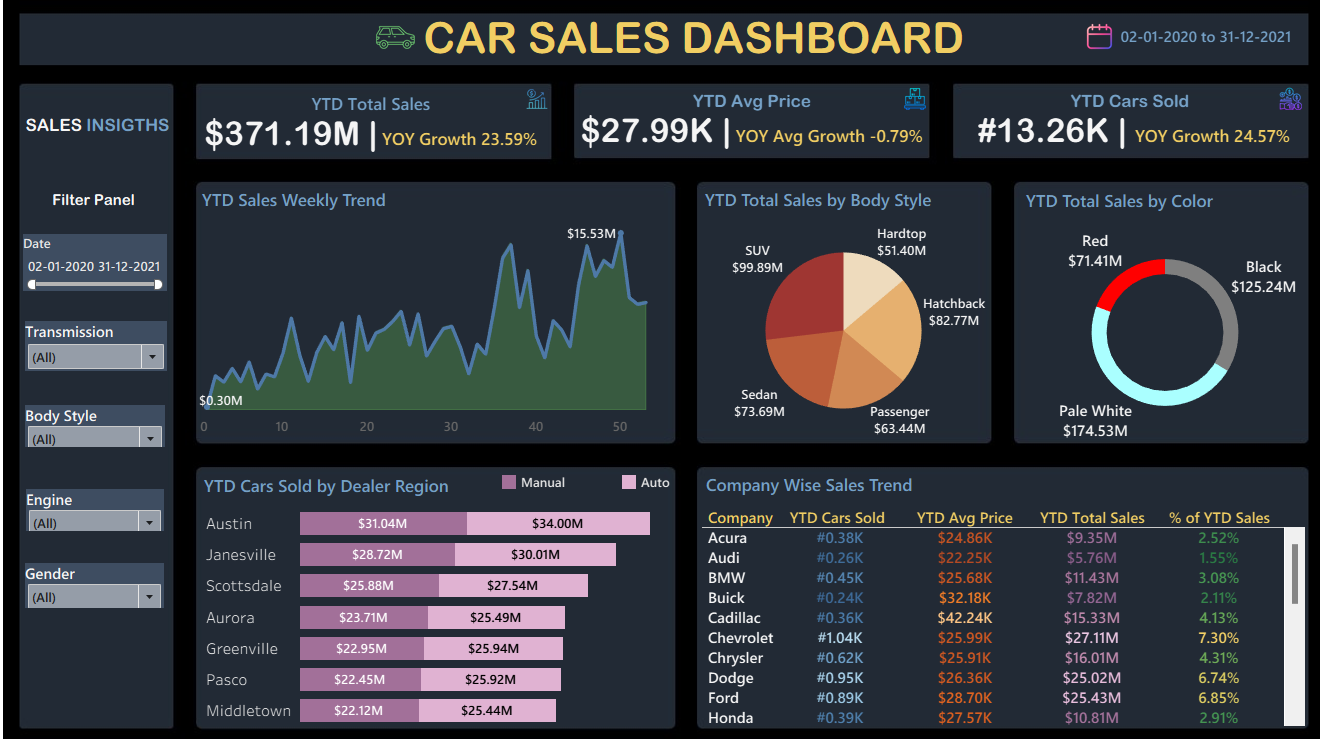

What the dashboard file says about the page in this screenshot:
{"tool":"tableau","page":{"name":"Dashboard 1","canvas":[1366,768],"ordinal":0},"visuals":[{"type":"image","param":"Image/Slide1.JPG","box":[8,8,1350,752]},{"type":"image","param":"Image/Car Icon.png","box":[391,27,46,46]},{"type":"text","box":[439,30,547,41]},{"type":"worksheet","title":"Sheet 9","mark":"Automatic","box":[1132,30,186,37]},{"type":"image","param":"Image/calendar.png","box":[1104,35,28,29]},{"type":"worksheet","title":"YTD Avg Price","mark":"Automatic","box":[594,97,353,74]},{"type":"worksheet","title":"YTD Cars Sold","mark":"Automatic","box":[973,97,351,74]},{"type":"image","param":"Image/Sales Icon.png","box":[544,98,23,27]},{"type":"image","param":"Image/Avg Price Icon.png","box":[922,98,23,27]},{"type":"image","param":"Image/Cars Sold Icon.png","box":[1298,98,23,27]},{"type":"worksheet","title":"YTD Total Sales","mark":"Automatic","box":[213,100,354,72]},{"type":"text","box":[36,121,161,33]},{"type":"worksheet","title":"YTD Sales Weekly Trend","mark":"Area","rows":["Calculation_1140818114014351362","Calculation_1140818114014351362"],"cols":["Date"],"box":[217,197,473,256]},{"type":"worksheet","title":" YTD Toatal Sales By Body Style","mark":"Pie","box":[720,197,285,255]},{"type":"text","box":[50,198,125,29]},{"type":"worksheet","title":"YTD Total Sales by Colour","mark":"Pie","rows":["Calculation_1140818114051559436","Calculation_1140818114051559436"],"box":[1041,198,286,257]},{"type":"filter","title":"YTD Sales Weekly Trend","param":"[federated.1opt41c16g8v8l1gv8thm1jmt664].[none:Date:qk]","box":[42,247,144,57]},{"type":"filter","title":"YTD Sales Weekly Trend","param":"[federated.1opt41c16g8v8l1gv8thm1jmt664].[none:Transmission:nk]","box":[44,334,142,50]},{"type":"filter","title":"YTD Sales Weekly Trend","param":"[federated.1opt41c16g8v8l1gv8thm1jmt664].[none:Body Style:nk]","box":[44,418,140,42]},{"type":"worksheet","title":"Company Wise Sales Trend","mark":"Automatic","rows":["Company"],"box":[721,482,603,258]},{"type":"worksheet","title":"YTD Cars Sold by DealerRegion","mark":"Automatic","rows":["Dealer_Region"],"cols":["Calculation_1140818114014351362"],"box":[219,483,468,256]},{"type":"legend","title":"YTD Cars Sold by DealerRegion","param":"[federated.1opt41c16g8v8l1gv8thm1jmt664].[none:Transmission:nk]","box":[518,485,246,30]},{"type":"filter","title":"YTD Sales Weekly Trend","param":"[federated.1opt41c16g8v8l1gv8thm1jmt664].[none:Engine:nk]","box":[45,502,138,42]},{"type":"filter","title":"YTD Sales Weekly Trend","param":"[federated.1opt41c16g8v8l1gv8thm1jmt664].[none:Gender:nk]","box":[44,576,139,45]}]}

Visuals, with their boxes in screenshot pixels (x1, y1, x2, y2), scaled from the page's 1366x768 canvas onto the 1320x739 screenshot:
image: 8,8,1312,731
image: 378,26,422,70
text: 424,29,953,68
"Sheet 9" worksheet: 1094,29,1274,64
image: 1067,34,1094,62
"YTD Avg Price" worksheet: 574,93,915,165
"YTD Cars Sold" worksheet: 940,93,1279,165
image: 526,94,548,120
image: 891,94,913,120
image: 1254,94,1277,120
"YTD Total Sales" worksheet: 206,96,548,166
text: 35,116,190,148
"YTD Sales Weekly Trend" worksheet (Area marks): 210,190,667,436
" YTD Toatal Sales By Body Style" worksheet (Pie marks): 696,190,971,435
text: 48,191,169,218
"YTD Total Sales by Colour" worksheet (Pie marks): 1006,191,1282,438
"YTD Sales Weekly Trend" filter: 41,238,180,293
"YTD Sales Weekly Trend" filter: 43,321,180,370
"YTD Sales Weekly Trend" filter: 43,402,178,443
"Company Wise Sales Trend" worksheet: 697,464,1279,712
"YTD Cars Sold by DealerRegion" worksheet: 212,465,664,711
"YTD Cars Sold by DealerRegion" legend: 501,467,738,496
"YTD Sales Weekly Trend" filter: 43,483,177,523
"YTD Sales Weekly Trend" filter: 43,554,177,598
